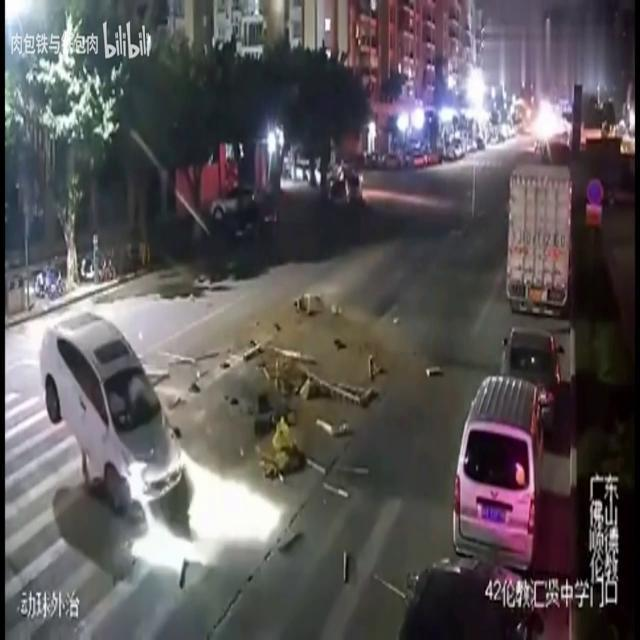accident: (38, 290, 388, 518)
non-accident: (450, 324, 568, 576), (316, 165, 364, 213), (364, 150, 440, 170)
